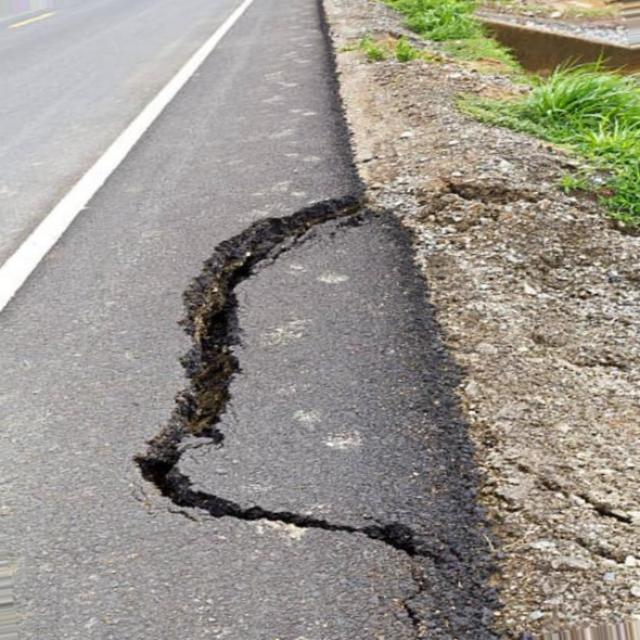Pinggir: (131, 187, 505, 573)
